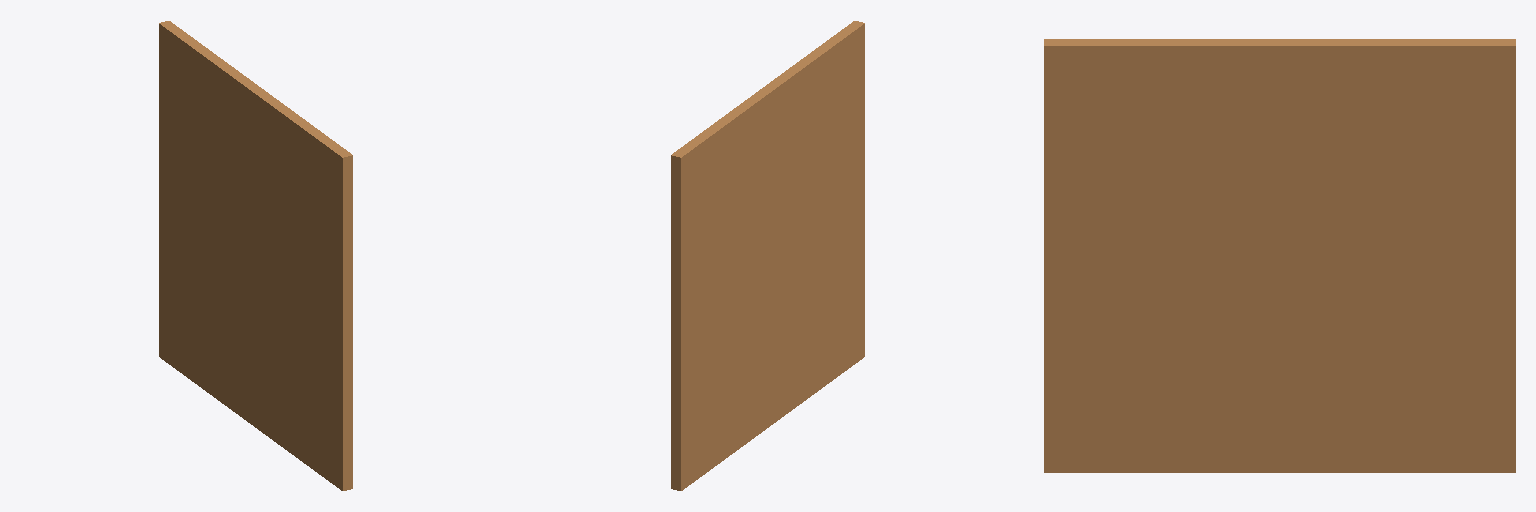
The robot description file, URDF, robot "plate":
<robot name="plate">
<link name="link">
   <inertial>
     <origin xyz="0 0 0" rpy="0 0 0"/>
     <mass value=".0"/>
     <inertia ixx="0"  ixy="0"  ixz="0" iyy="0" iyz="0" izz="0" />
   </inertial>

   <visual>
     <origin xyz="0 0 0" rpy="0 0 0" />
     <geometry>
       <box size="0.01 0.3 0.3" />
     </geometry>
    <material name="brawn">
     <color rgba="0.8  0.6 0.4 1"/>
     </material>
   </visual>

   <collision>
     <origin xyz="0 0 0" rpy="0 0 0" />
     <geometry>
       <box size="0.01 0.3 0.3" />
     </geometry>
   </collision>

 </link>
 </robot>

--- Render facts (derived) ---
Views: 3 orthographic renders of the robot side by side, from view 1: azimuth 30°, elevation 25°; view 2: azimuth 150°, elevation 25°; view 3: azimuth 270°, elevation 25°.
Robot: plate — 1 links, 0 joints (none); root link link; default pose: all joints at 0.
Visible links, largest first — view 1: link; view 2: link; view 3: link.
Link boxes in pixels (box(x1,y1,x2,y2)): link: box(159, 21, 352, 490); link: box(671, 21, 864, 490); link: box(1044, 39, 1515, 472).
Bounding box of the posed robot: 0.01 × 0.3 × 0.3 m (x, y, z).
Geometry: primitives only (box / cylinder / sphere), no mesh files.